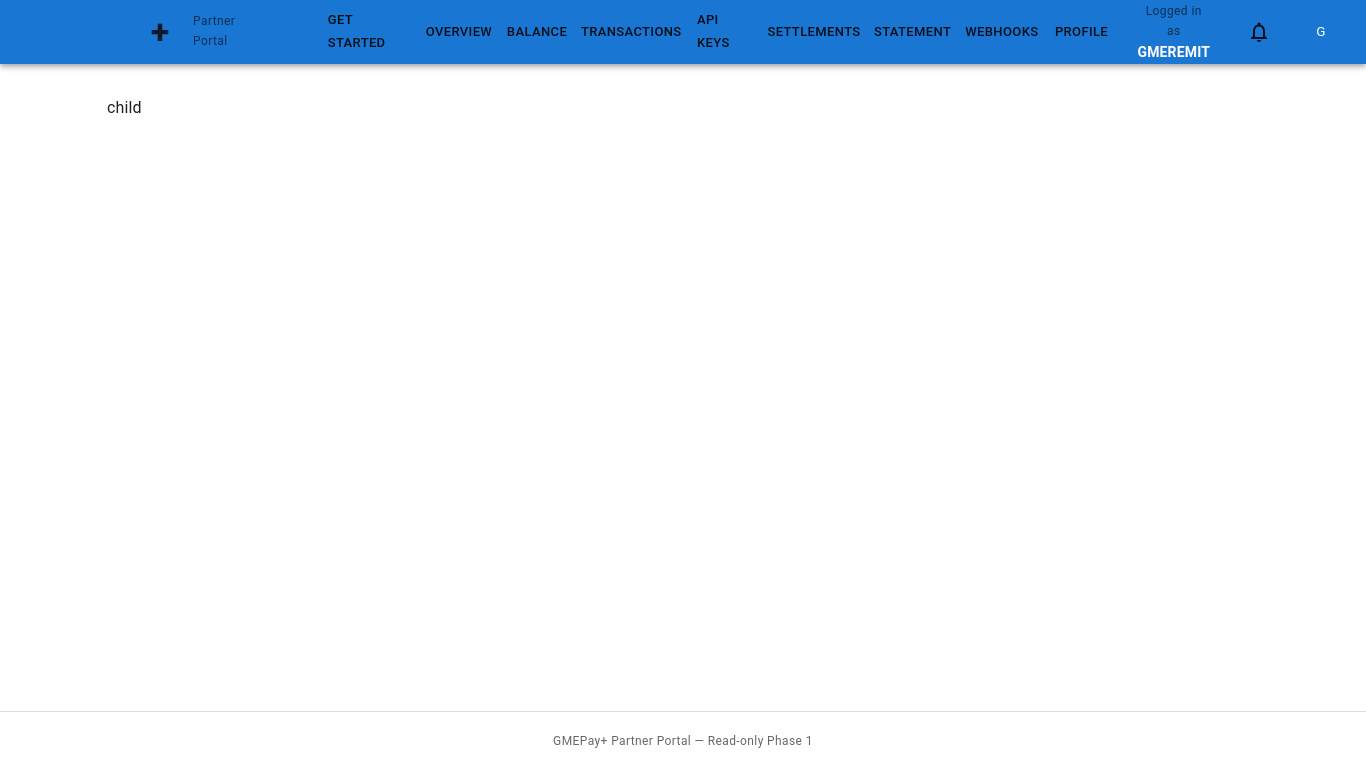
Test: AppShell › opens the user menu when the avatar is clicked
Click the button with test id "user-menu-button" at (1321, 32), box [1300,11,1342,53]
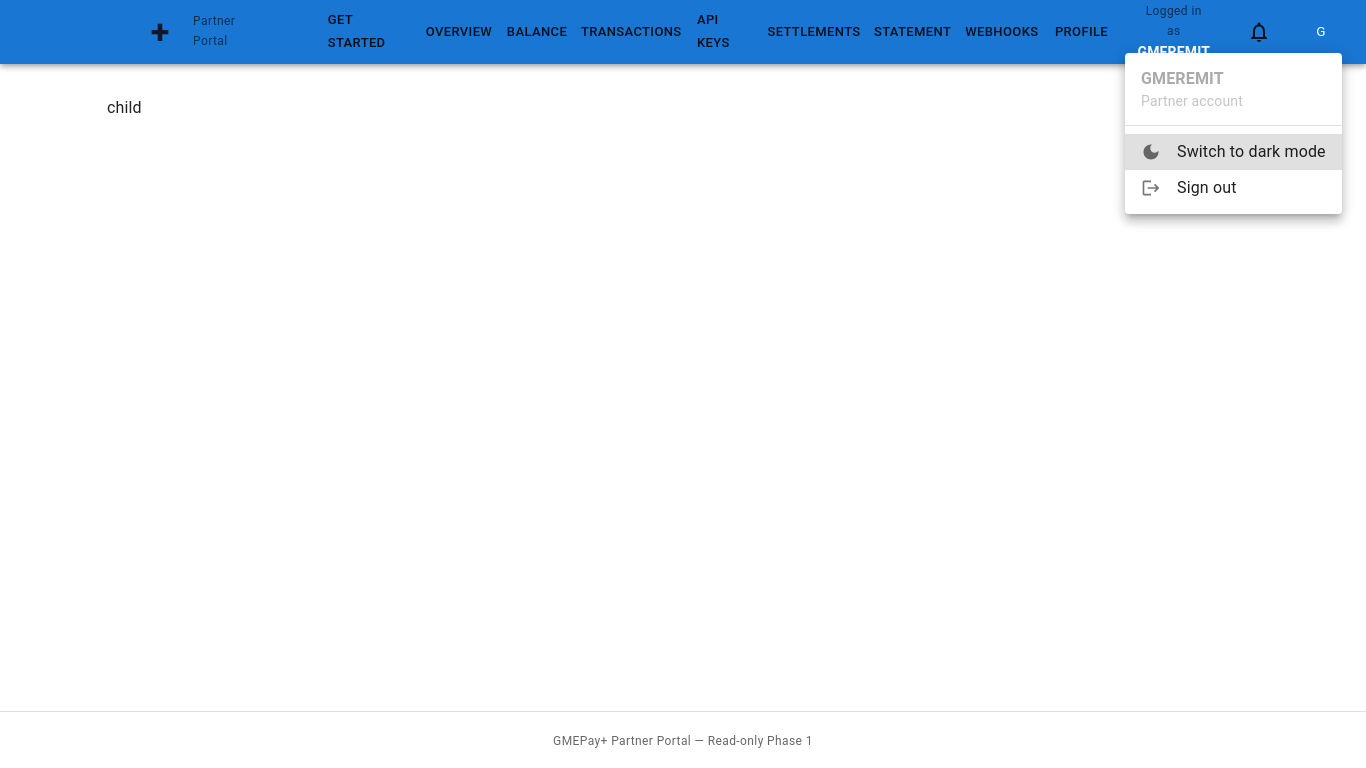
Expected: the menu item with test id "toggle-mode-menuitem" is shown, [1125,134,1342,170]
Expected: the menu item with test id "signout-menuitem" is shown, [1141,178,1237,198]
